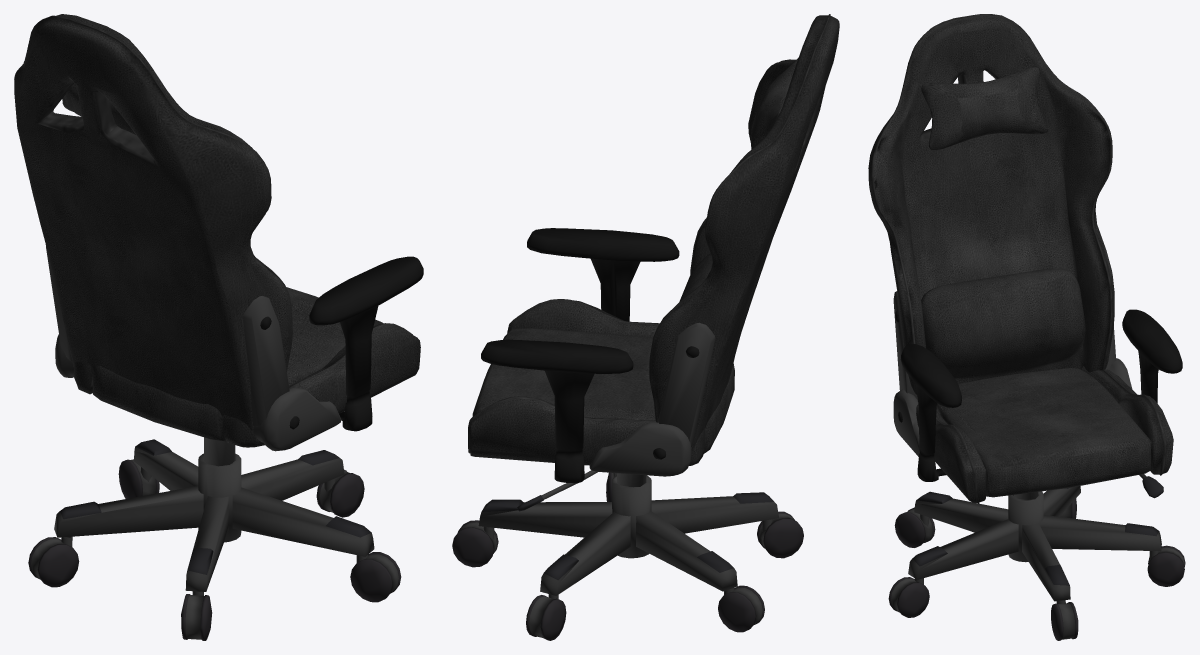
File: gaming-chair-all-black-compact.glb
3 renders of one model, left to right at view 1: azimuth 30°, elevation 25°; view 2: azimuth 150°, elevation 25°; view 3: azimuth 270°, elevation 25°, orthographic. The views are drawn at different scales.
Parts seen in each view (by area): view 1: Gaming chair by Vlad; view 2: Gaming chair by Vlad; view 3: Gaming chair by Vlad.
Part boxes in pixels (x1,y1,x2,y2): Gaming chair by Vlad: (14,14,423,640); Gaming chair by Vlad: (452,14,839,640); Gaming chair by Vlad: (868,14,1185,640).
Size of the model in its own units: 0.7402 by 1.2 by 0.6941.
7 materials, 5 textured.
